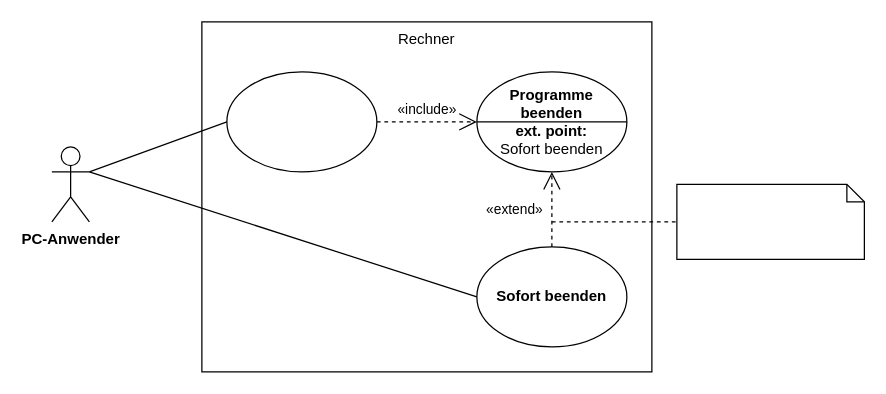
The diagram is 886 pixels wide and 394 high, and some of its shapes have lost their labels. The shapes that lost their labels are listed below. From the top down, each one's centre as x and y in pixels, then its label:
At point 301,121: "Rechner herunterfahren".
At point 770,221: "Wenn ein Programm abstürzt und nicht beendet werden kann.".
